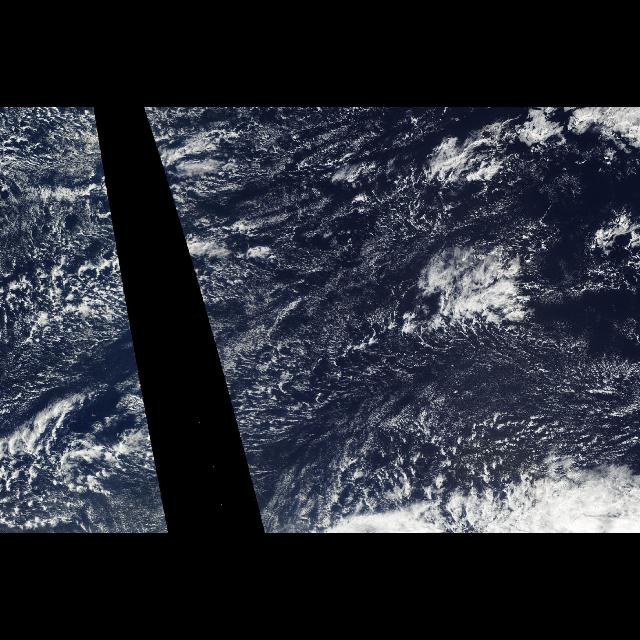Gravel: (142, 110, 486, 528), (2, 108, 170, 528)
Sugar: (248, 200, 640, 470)
